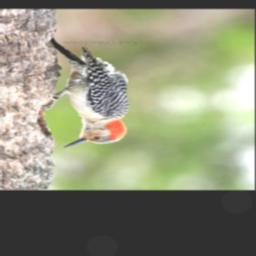Woodpecker: (44, 31, 137, 151)
